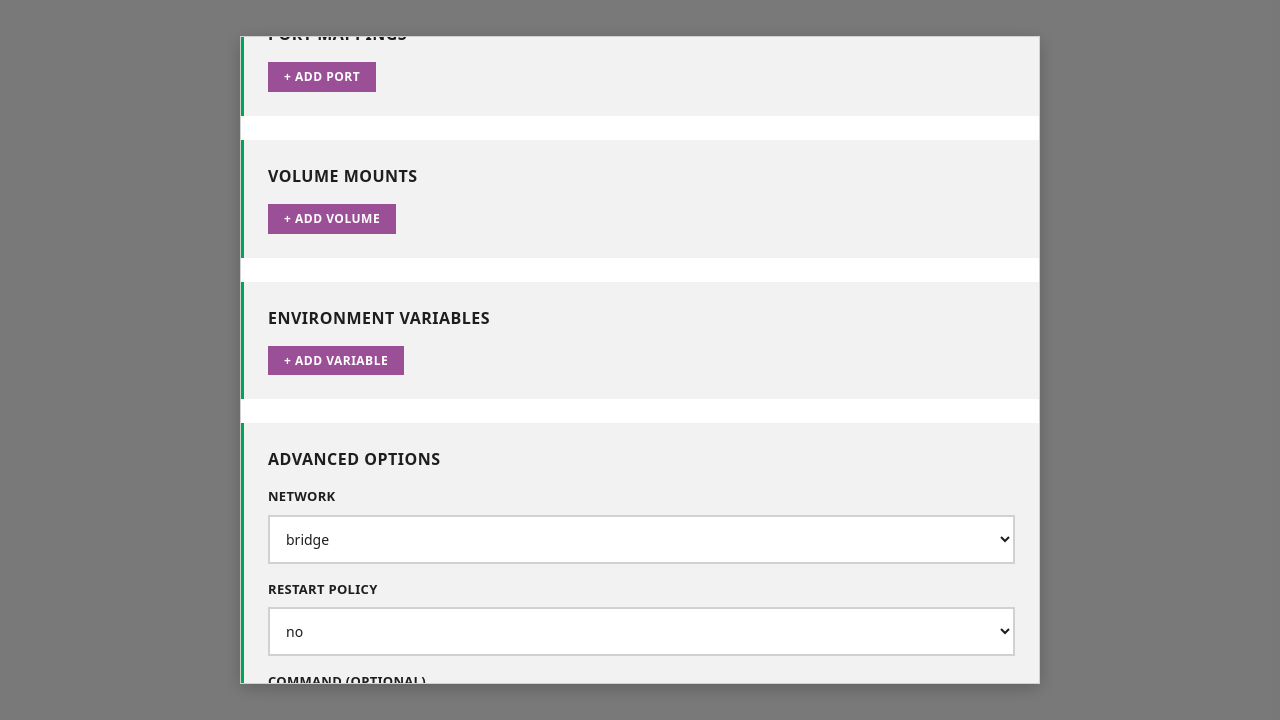
Test: CreateContainer › dynamic form elements › adds environment variable row
(page scrolled)
Click the button "+ Add Variable".
click(336, 360)  # box [268,346,404,375]
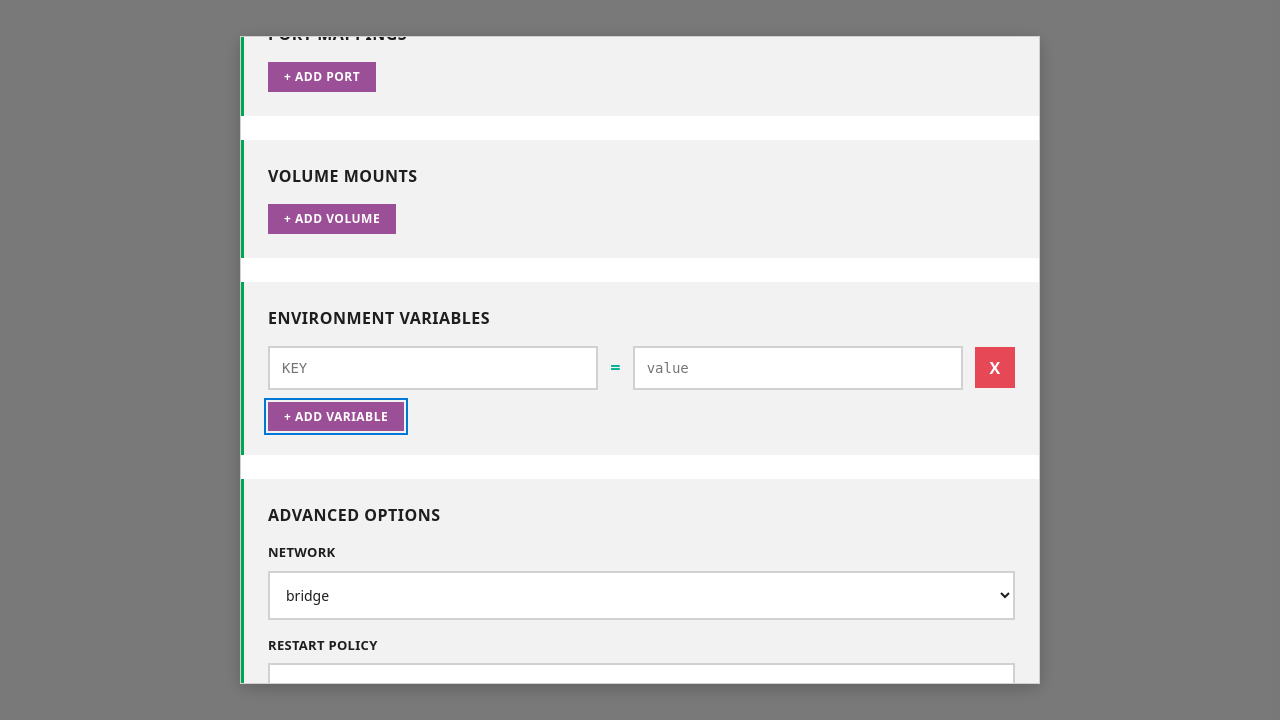
Expected: the field with placeholder "KEY" is shown, [268,346,598,390]
Expected: the field with placeholder "value" is shown, [633,346,963,390]
